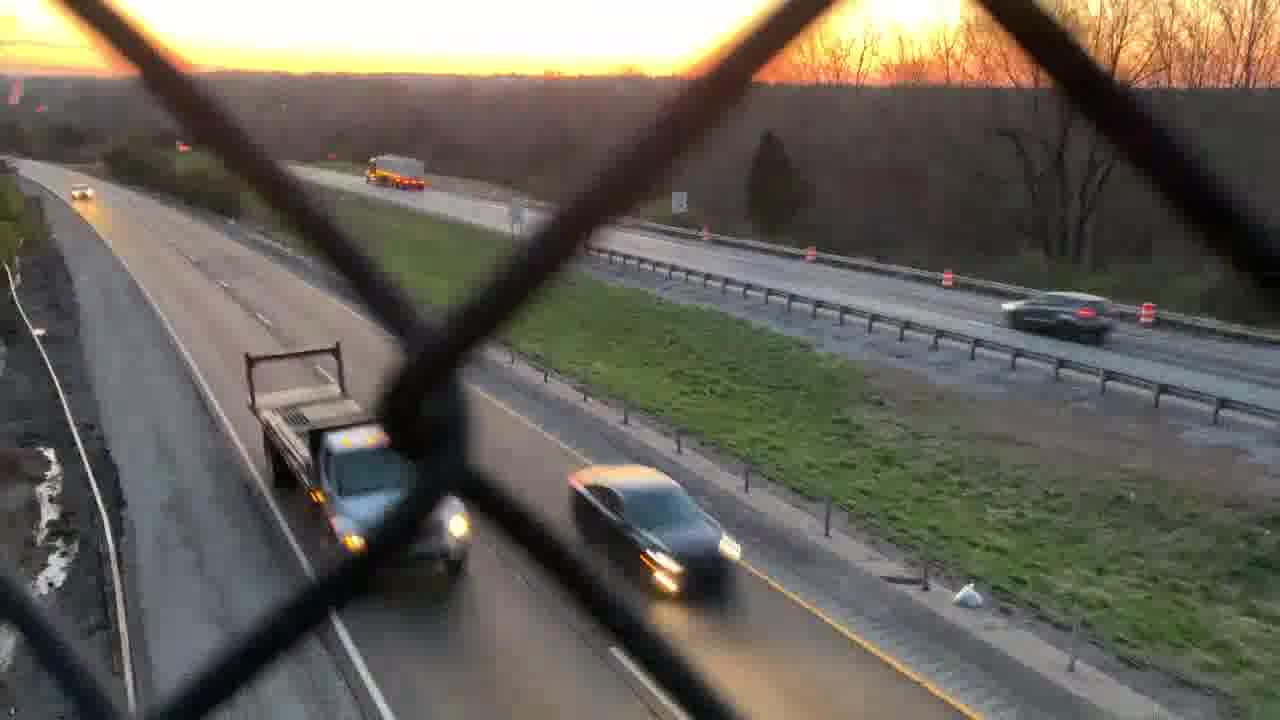heavyTruck: (234, 342, 485, 584), (357, 154, 433, 195)
largeCar: (1003, 286, 1122, 340)
smallCar: (566, 456, 748, 598), (65, 178, 98, 204)
